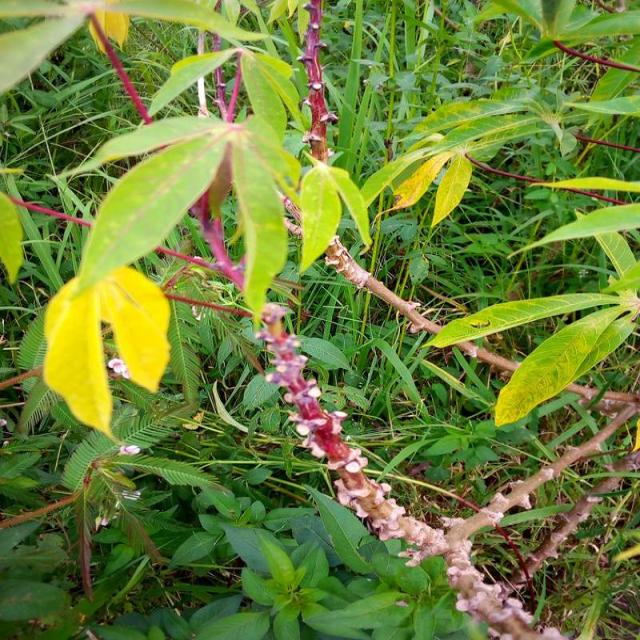cassava leaf: (74, 126, 230, 293), (42, 262, 171, 446), (492, 298, 635, 428)
